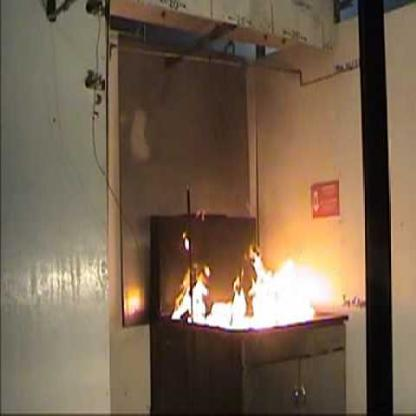fire: (170, 249, 320, 330)
